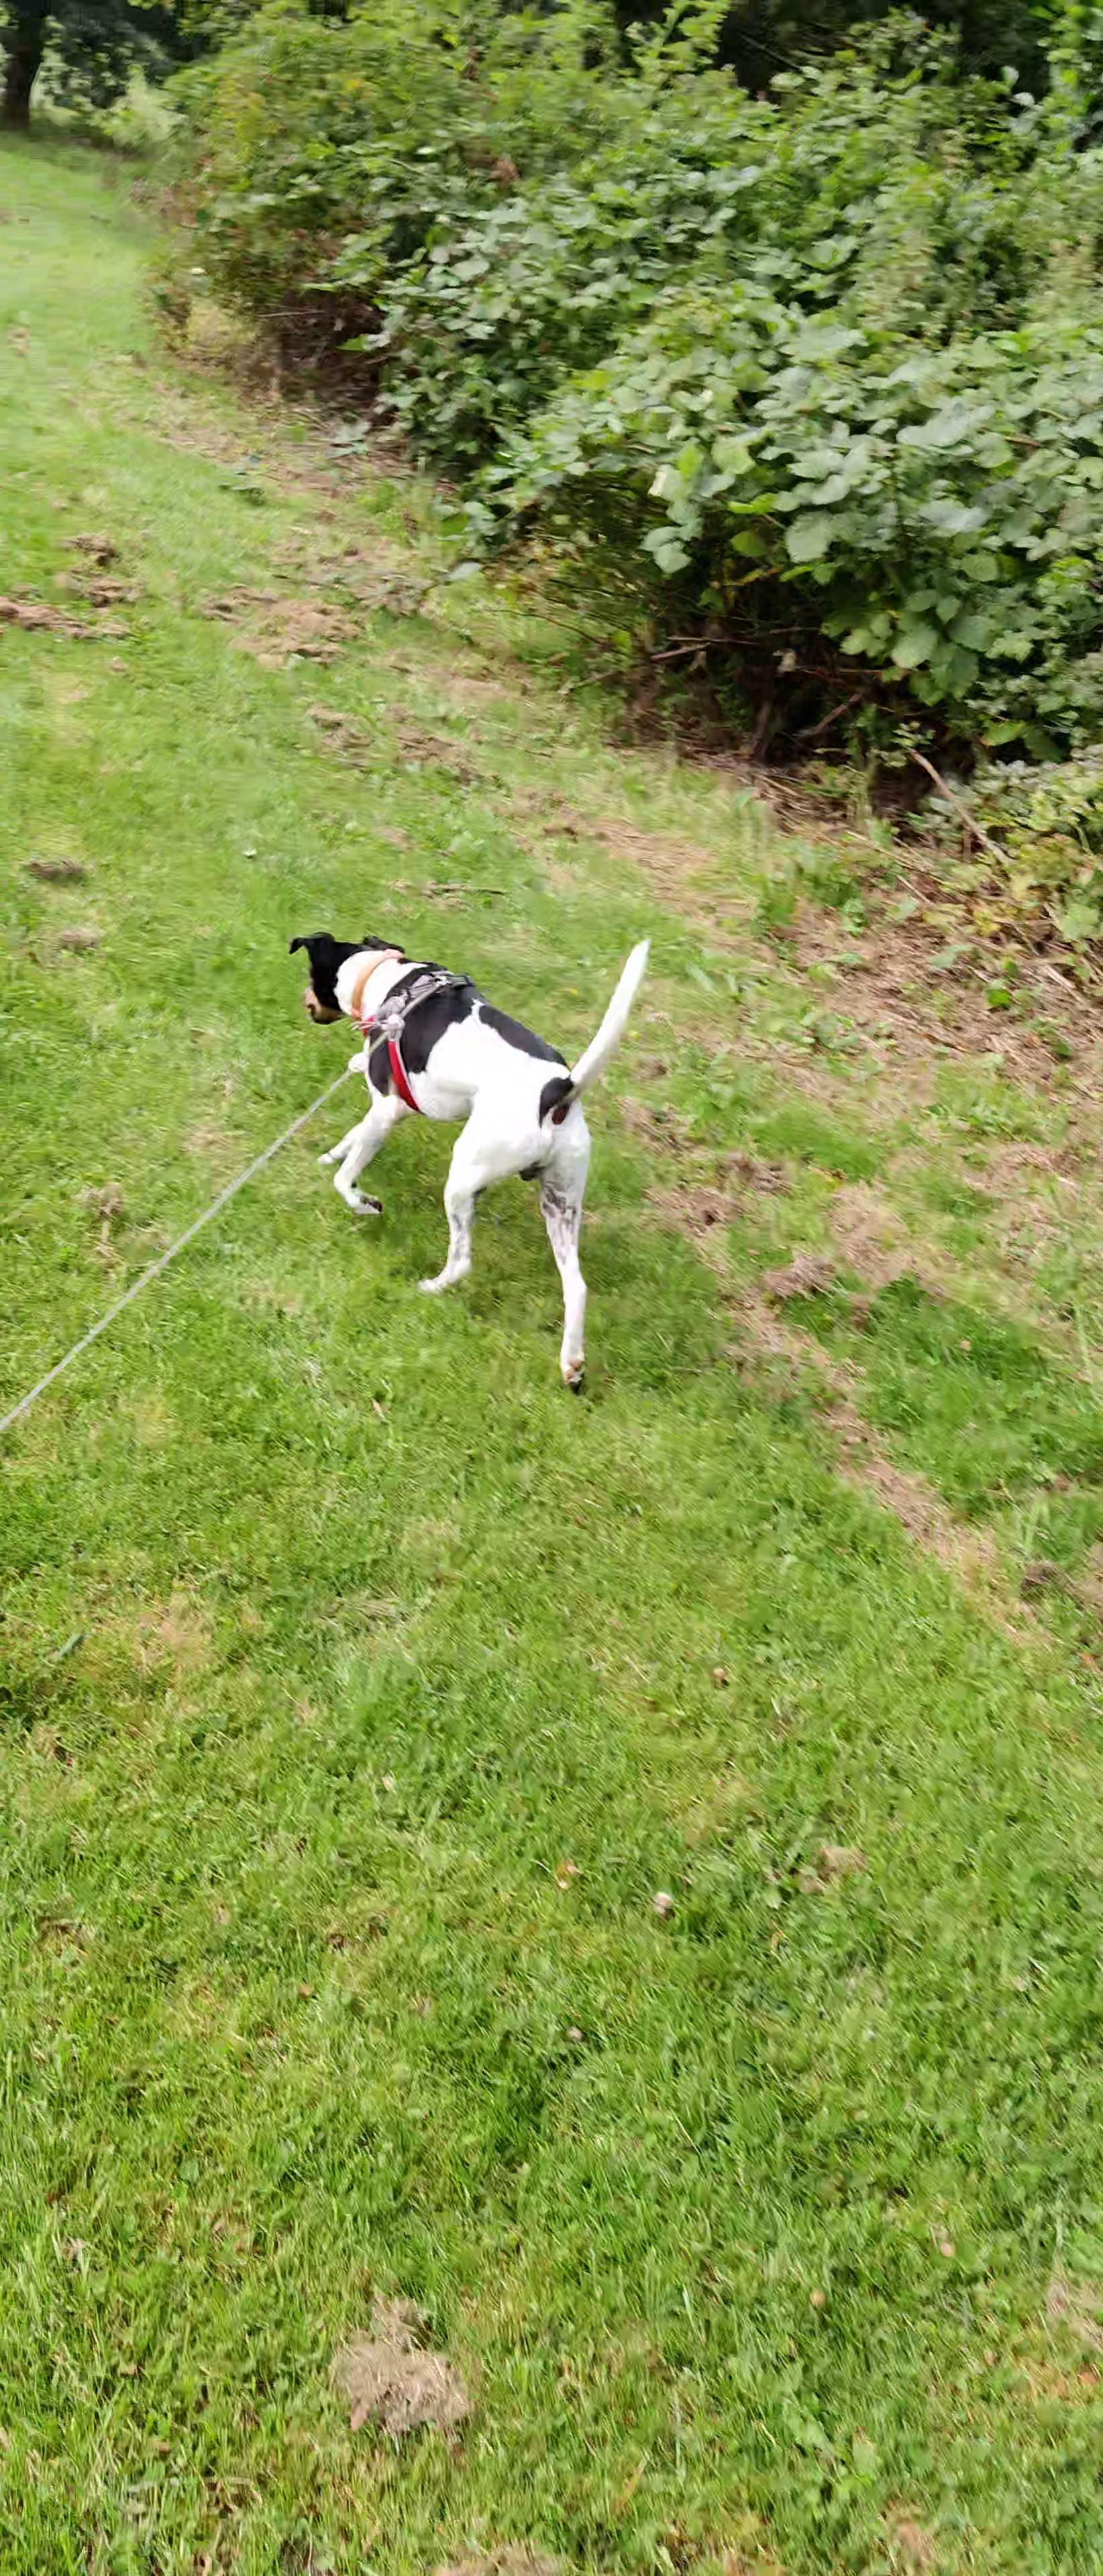Dog: (271, 885, 671, 1414)
